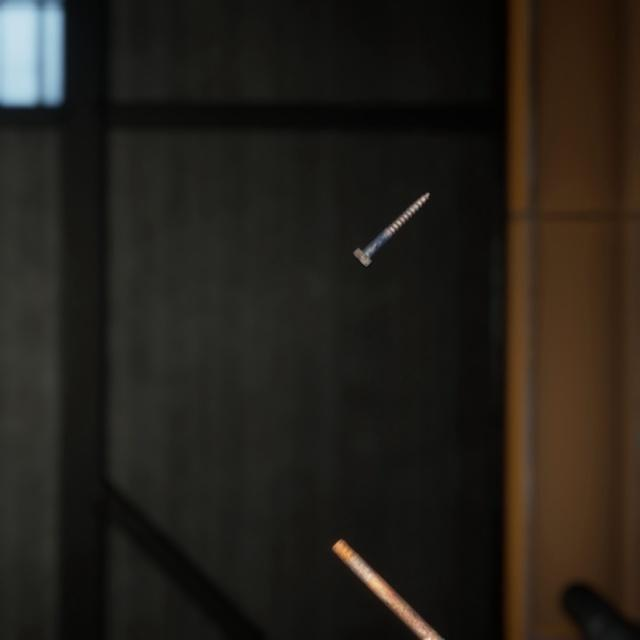bolt: (327, 512, 463, 640), (348, 173, 434, 258)
